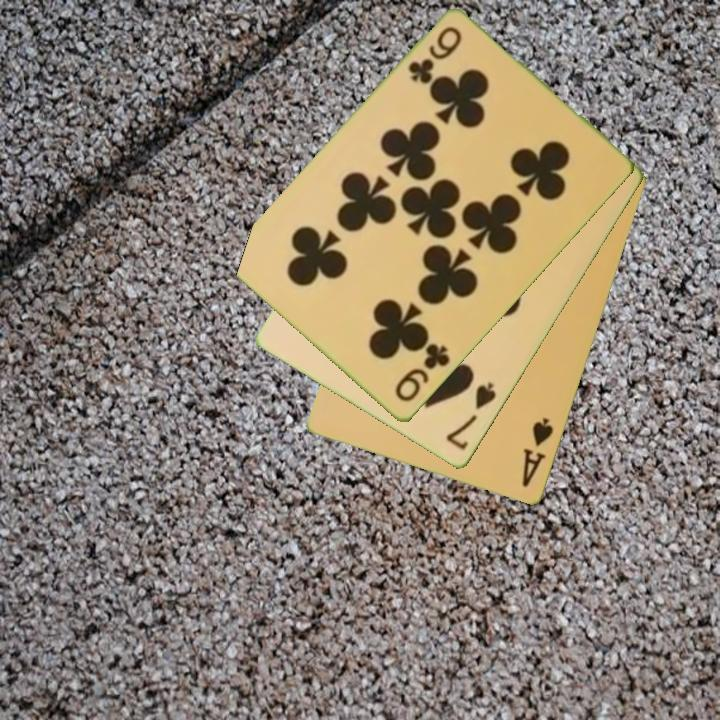7s: (442, 379, 500, 454)
9c: (391, 340, 453, 405), (404, 23, 465, 88)
As: (518, 414, 557, 491)
